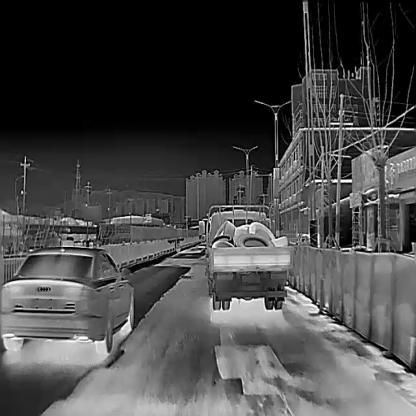car: (0, 247, 134, 354), (206, 203, 290, 310), (23, 229, 62, 250)
